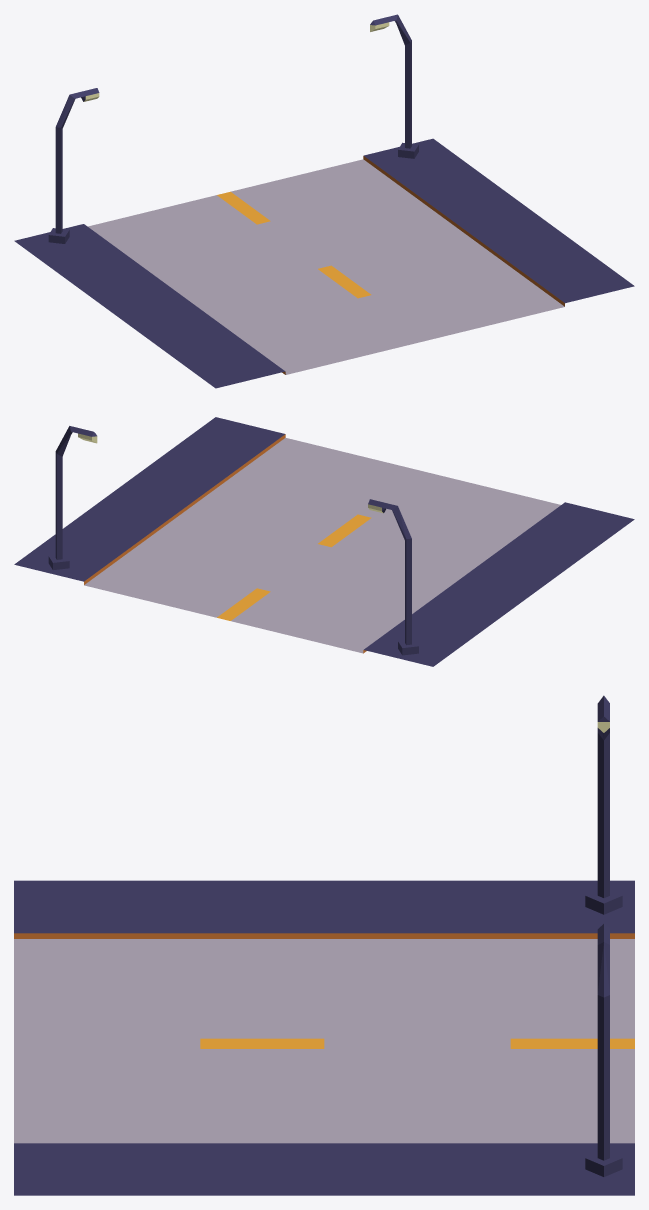
File: road.obj
3 views of the same model, one above another, from view 1: azimuth 30°, elevation 25°; view 2: azimuth 150°, elevation 25°; view 3: azimuth 270°, elevation 25° (orthographic). The views are drawn at different scales.
Visible parts, largest first — view 1: ROAD; view 2: ROAD; view 3: ROAD.
Boxes of the visible parts, <box> form: ROAD: <box>14,14,634,388</box>; ROAD: <box>14,417,634,666</box>; ROAD: <box>14,695,634,1195</box>.
Size of the model in its own units: 12 by 4 by 10.
